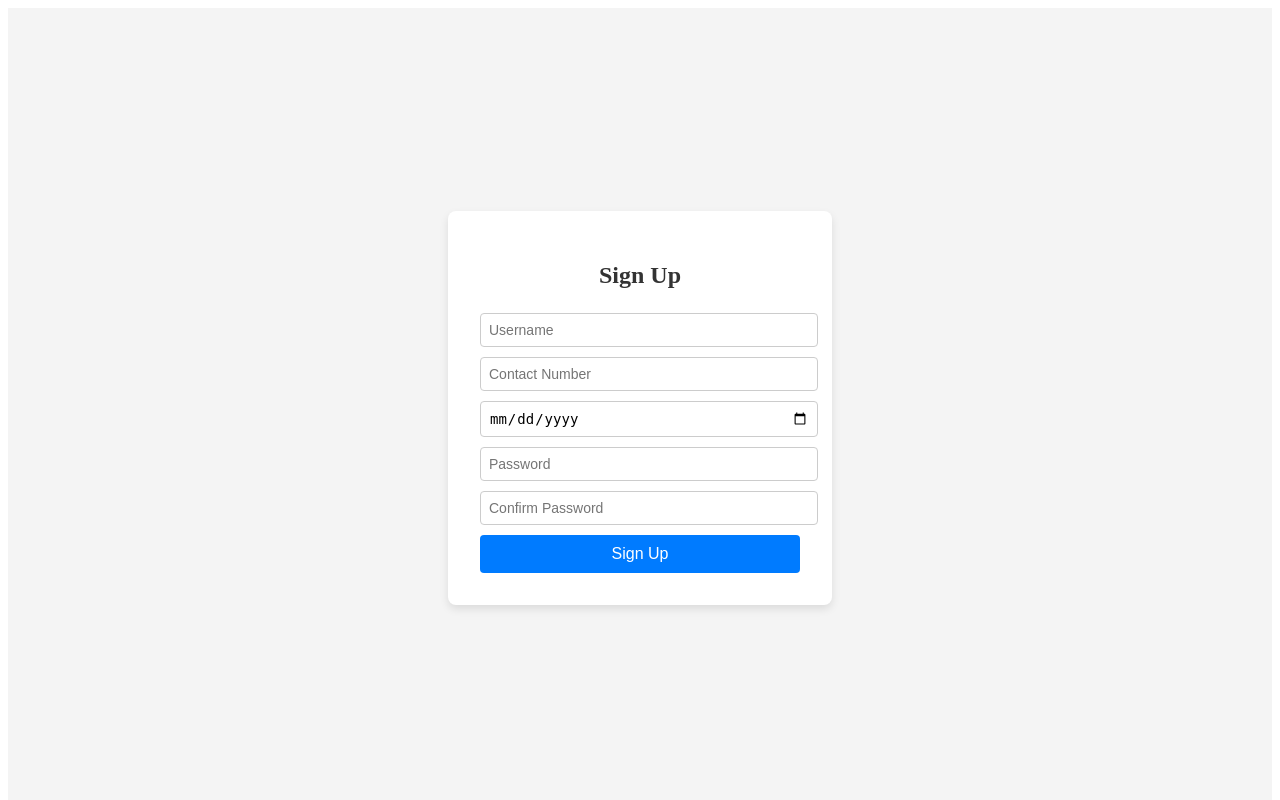
Test case: Authentication Flow › Should not allow sign up if passwords do not match
The width and height of the screenshot is (1280, 800).
Type "testuser" into the field named "username" at (649, 331), box [480, 314, 818, 348]
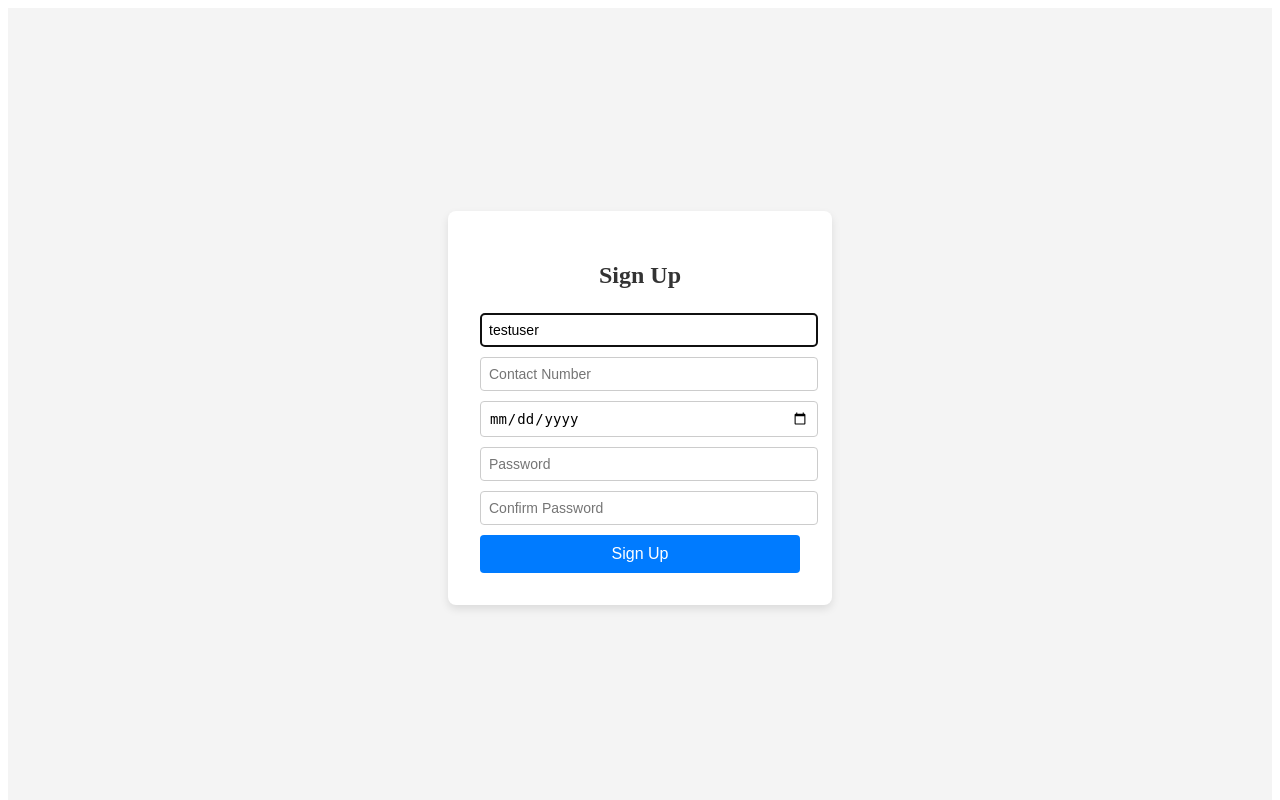
Type "9876543210" into the field named "contact" at (649, 375), box [480, 358, 818, 392]
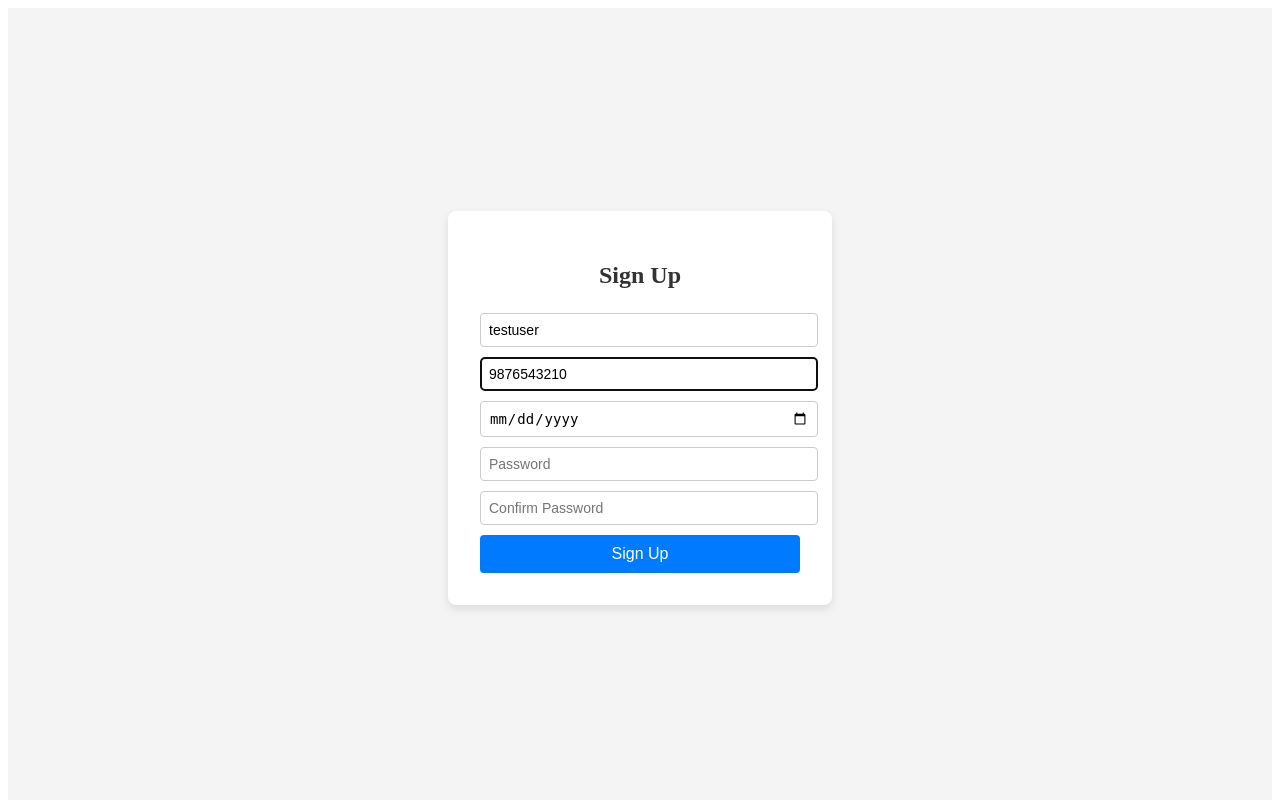
Type "2000-01-01" into the date field named "dob" at (649, 420), box [480, 402, 818, 438]
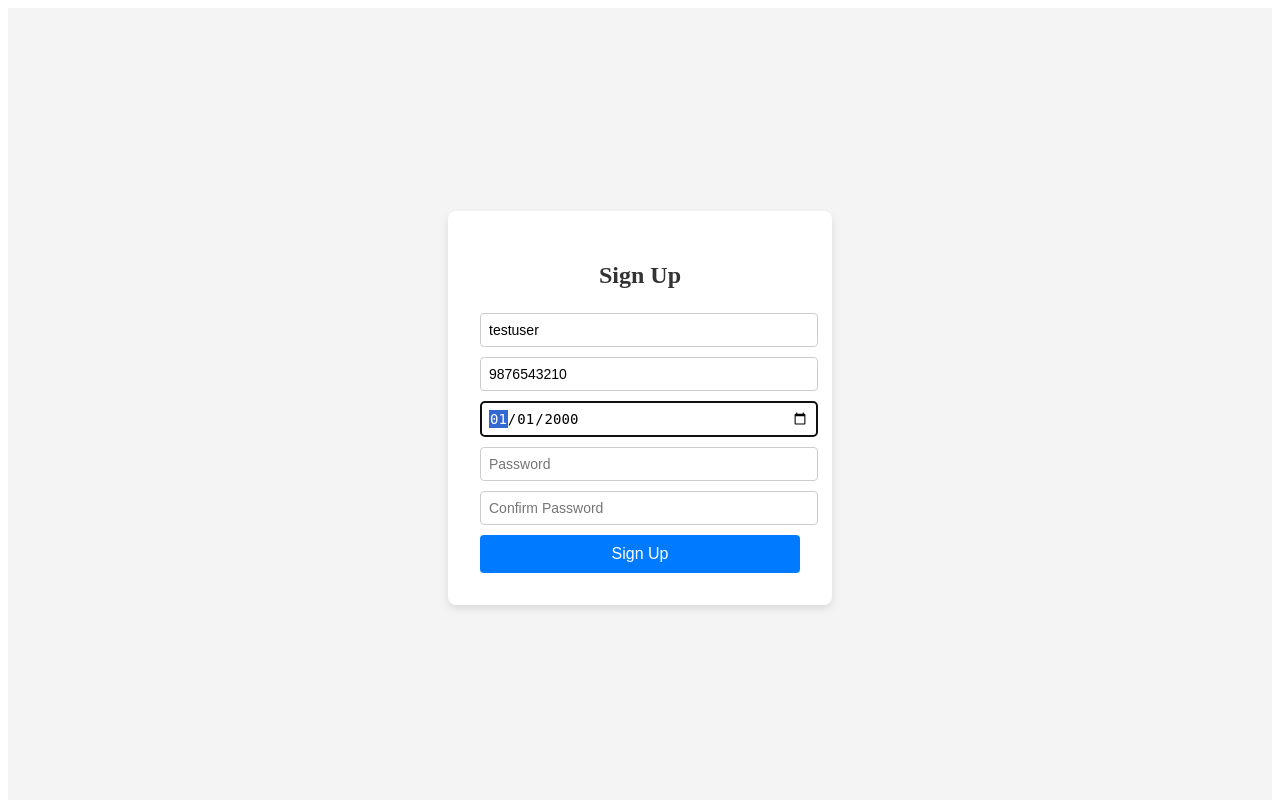
Type "Test@1234" into the password field named "password" at (649, 465), box [480, 448, 818, 482]
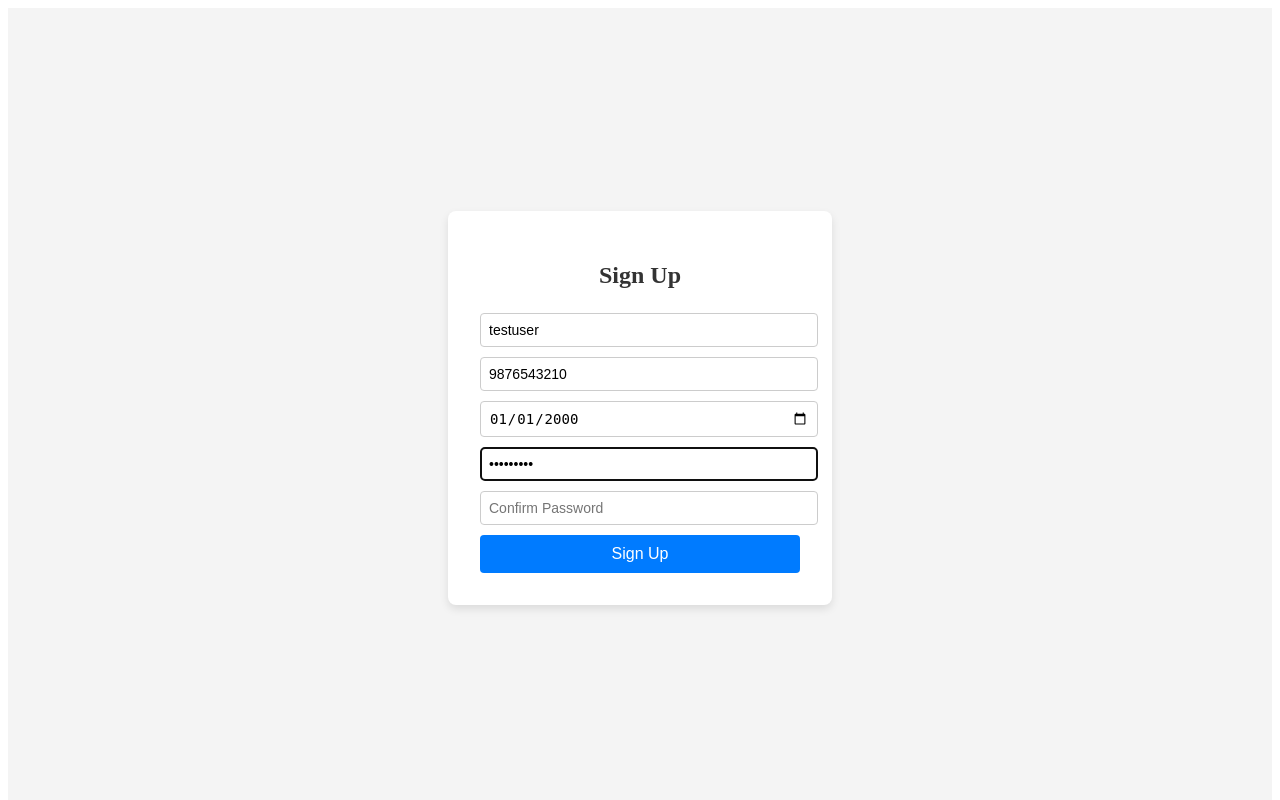
Type "WrongPassword" into the password field named "confirmPassword" at (649, 509), box [480, 492, 818, 526]
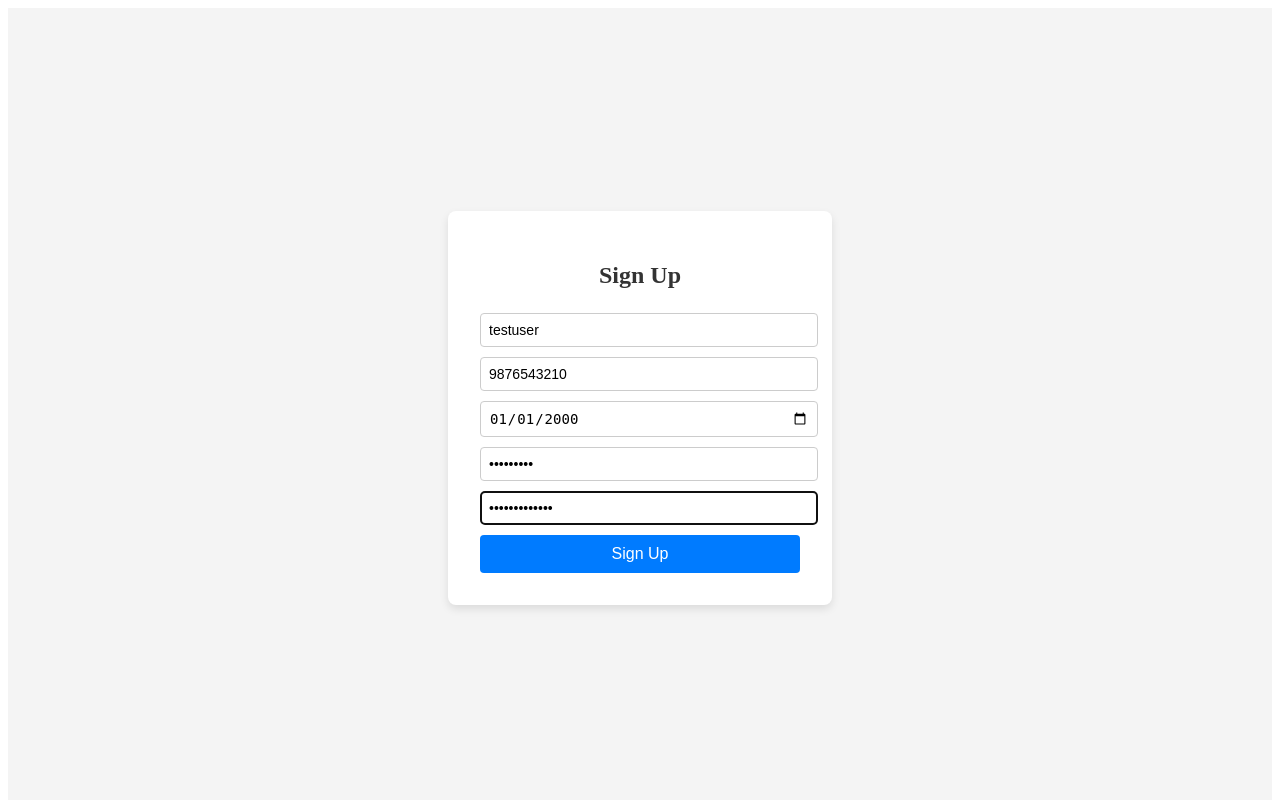
Click the submit button at (640, 555), box [480, 536, 800, 574]
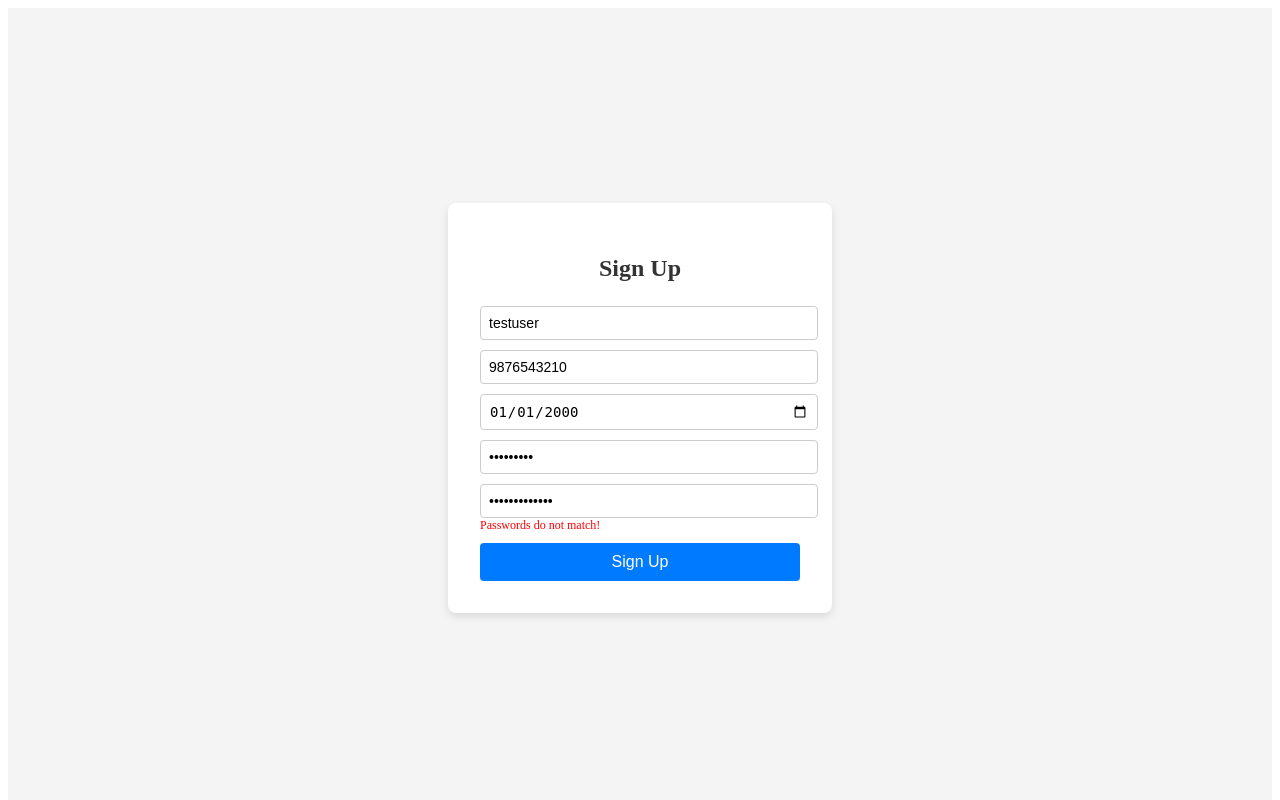
Expected: the text "Passwords do not match!" is shown, [480, 518, 600, 532]
